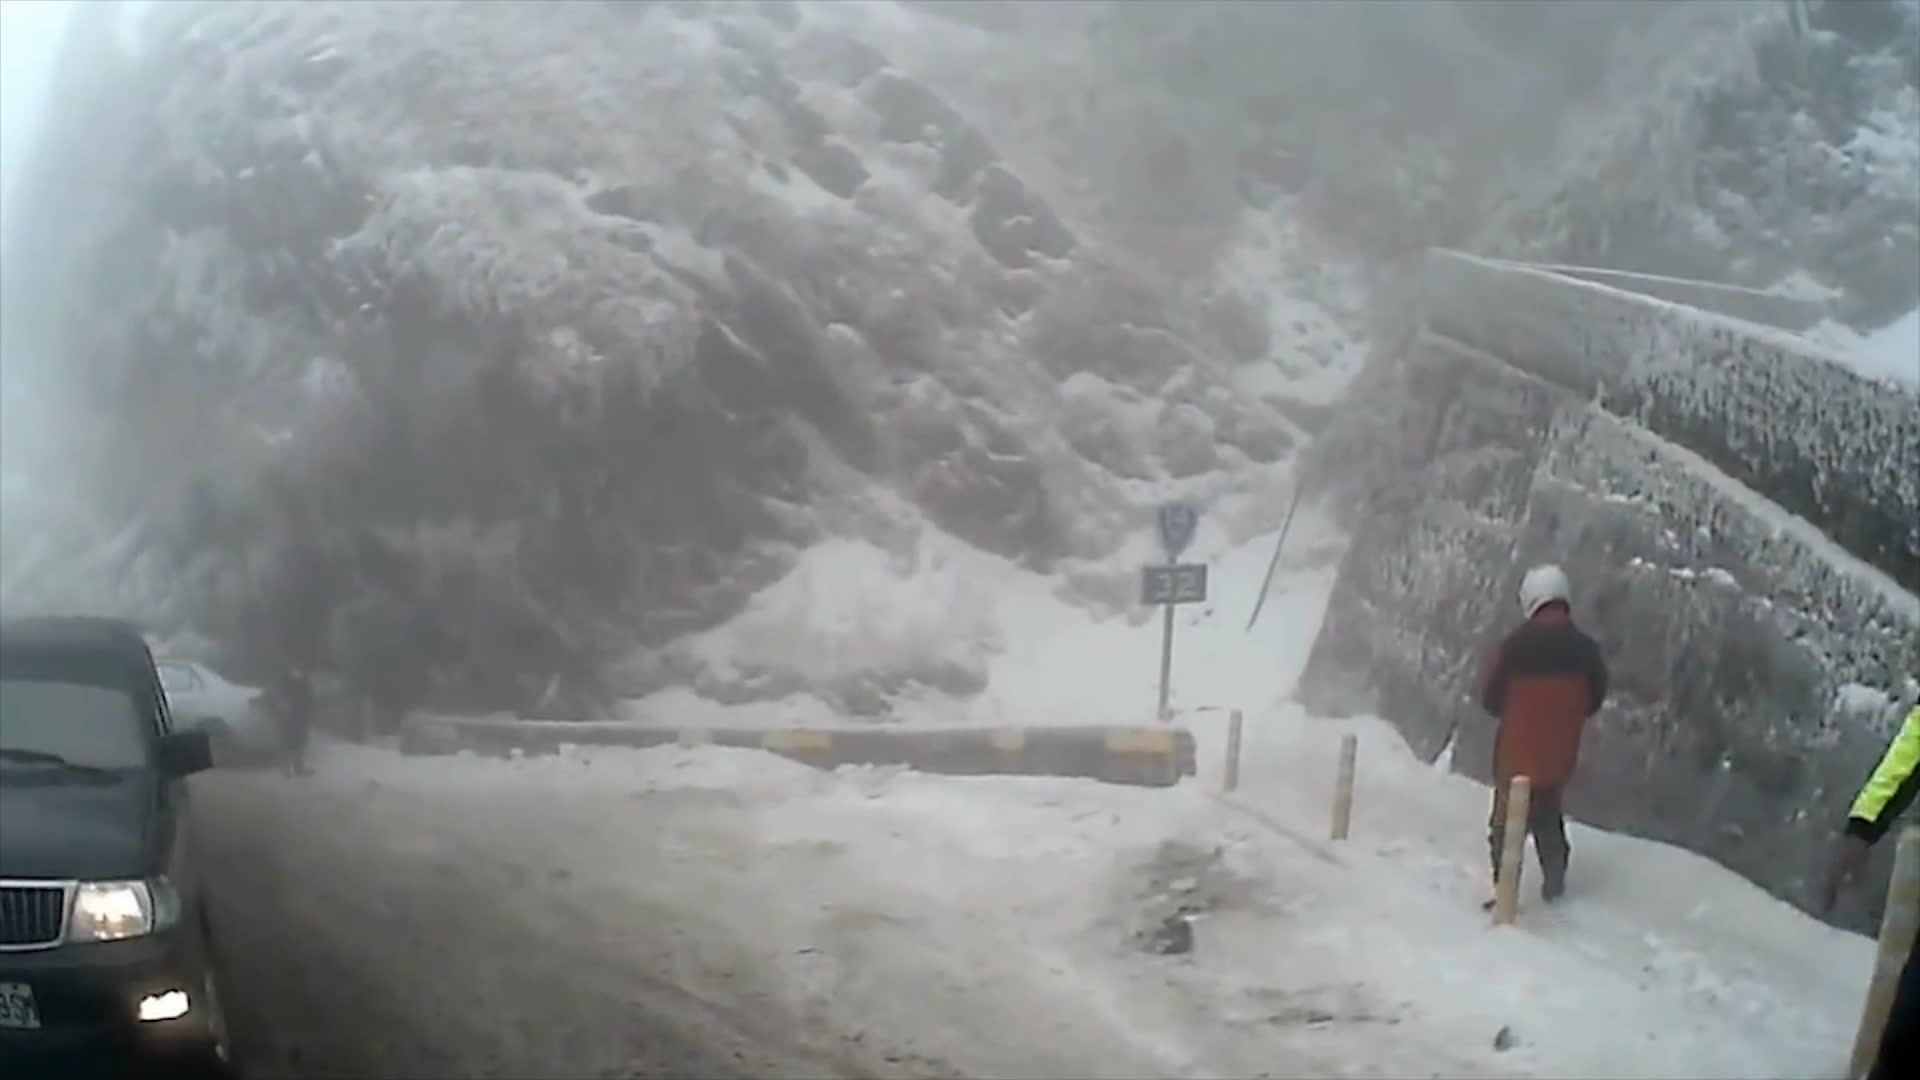pedestrian: (1484, 568, 1615, 914)
vehicle: (0, 612, 238, 1080)
